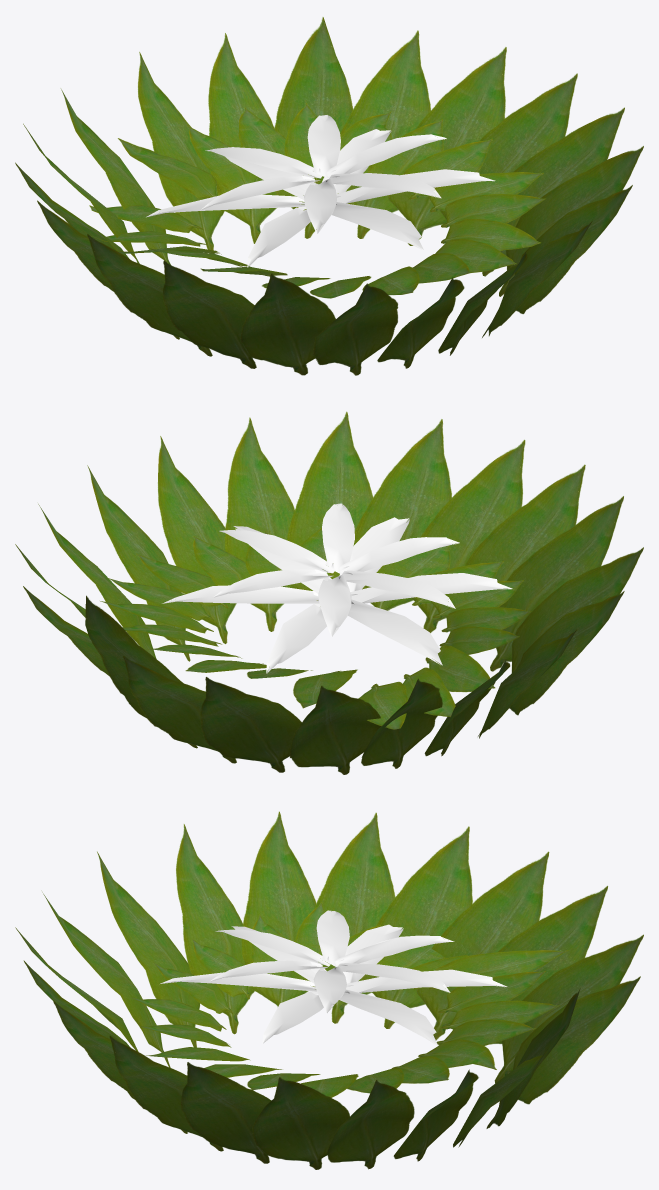
The model's file is flower.glb.
3 views of the same model, one above another, from view 1: azimuth 30°, elevation 25°; view 2: azimuth 150°, elevation 25°; view 3: azimuth 270°, elevation 25° (orthographic).
Parts seen in each view (by area): view 1: Plane_1, Plane.003_8, Plane.001_3, Plane.005_20; view 2: Plane_1, Plane.003_8, Plane.005_20, Plane.001_3; view 3: Plane_1, Plane.003_8, Plane.005_20, Plane.001_3.
Part boxes in pixels (x1,y1,x2,y2): Plane_1: (15, 17, 643, 375); Plane.003_8: (89, 103, 545, 298); Plane.001_3: (200, 115, 446, 233); Plane.005_20: (146, 129, 495, 267); Plane_1: (15, 411, 643, 774); Plane.003_8: (100, 528, 531, 729); Plane.005_20: (162, 517, 512, 673); Plane.001_3: (212, 503, 459, 636); Plane_1: (15, 811, 643, 1169); Plane.003_8: (130, 902, 568, 1097); Plane.005_20: (160, 924, 507, 1044); Plane.001_3: (209, 910, 454, 1012).
Bounding box in the file's own units: 2.94 × 0.9048 × 2.98.
Materials: 2 (1 with a texture image).
